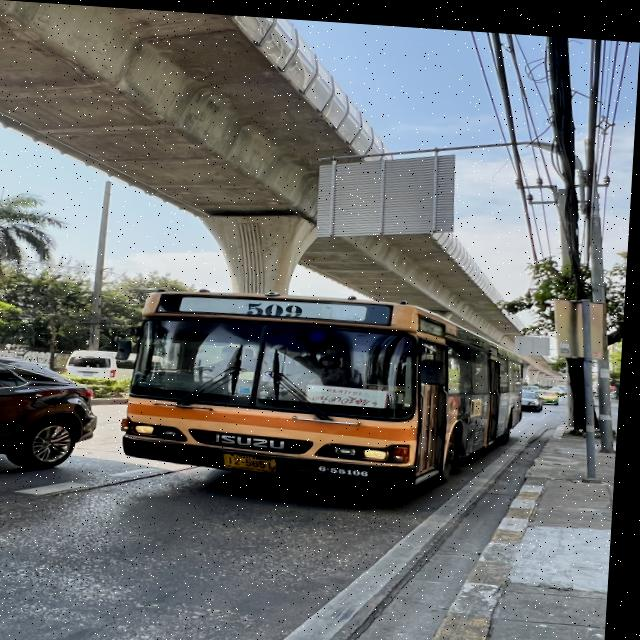BMTA-bus: (125, 284, 533, 488)
Bus-Line-Number: (234, 295, 312, 317)
Destination-Sign-Extra-Bus: (307, 380, 395, 404)
